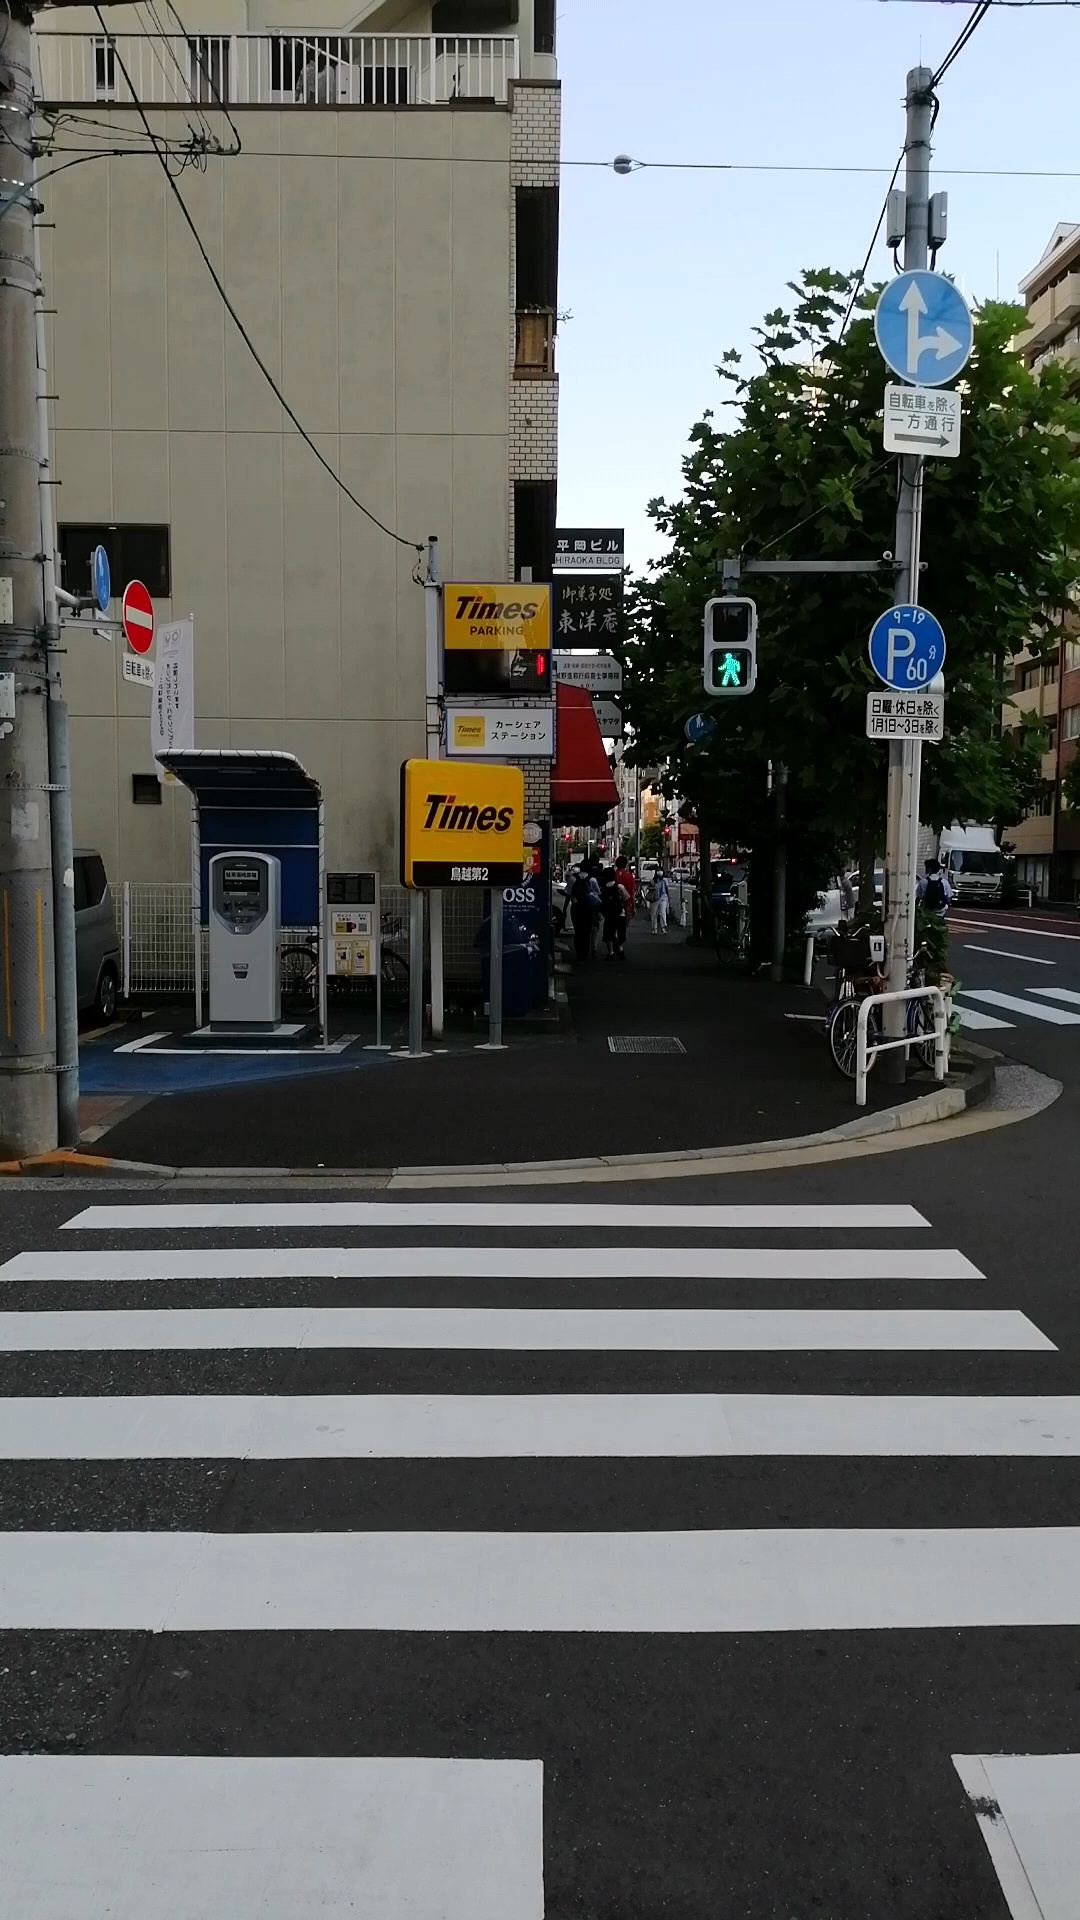green: (700, 595, 760, 700)
